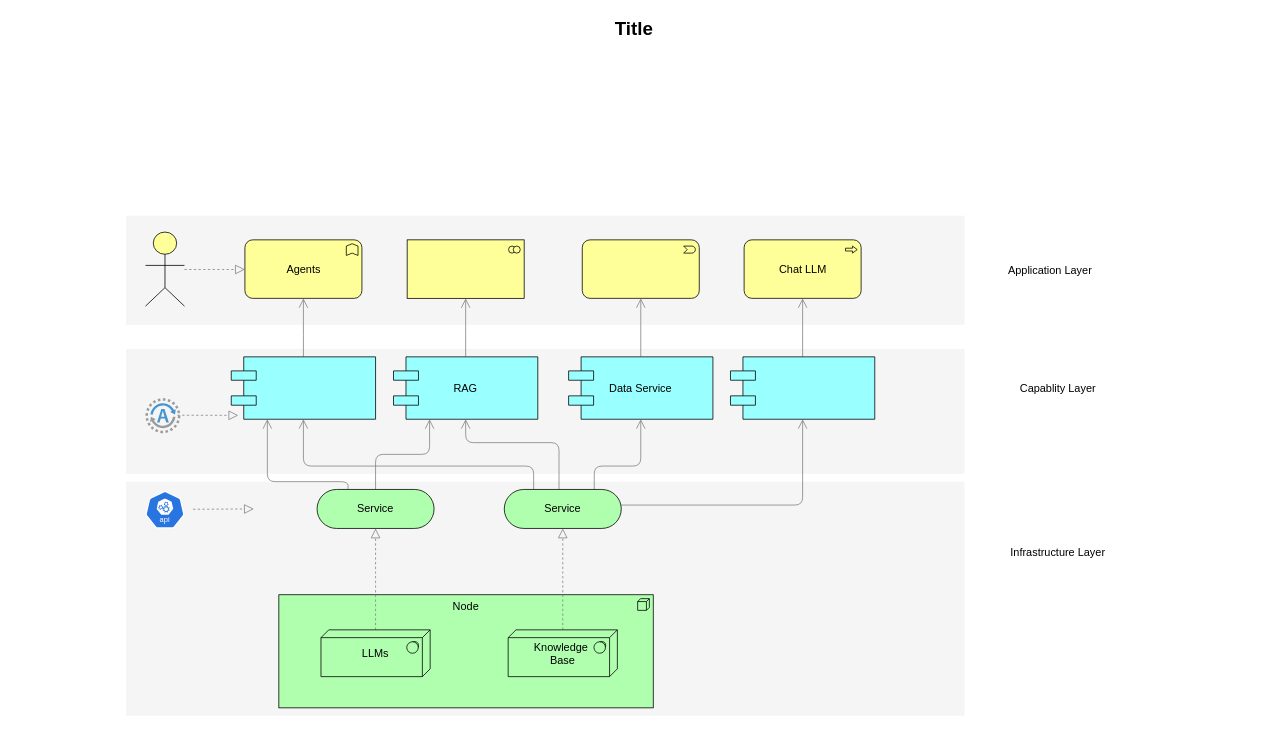
Image size: 1267x729. Some labels were removed from this diagram. Each missing label, with the centre of its shape:
APIs: point (303, 387)
Data: point (640, 268)
Higress Gateway （Models，MCPs）: point (802, 387)
Knowledge: point (465, 268)
